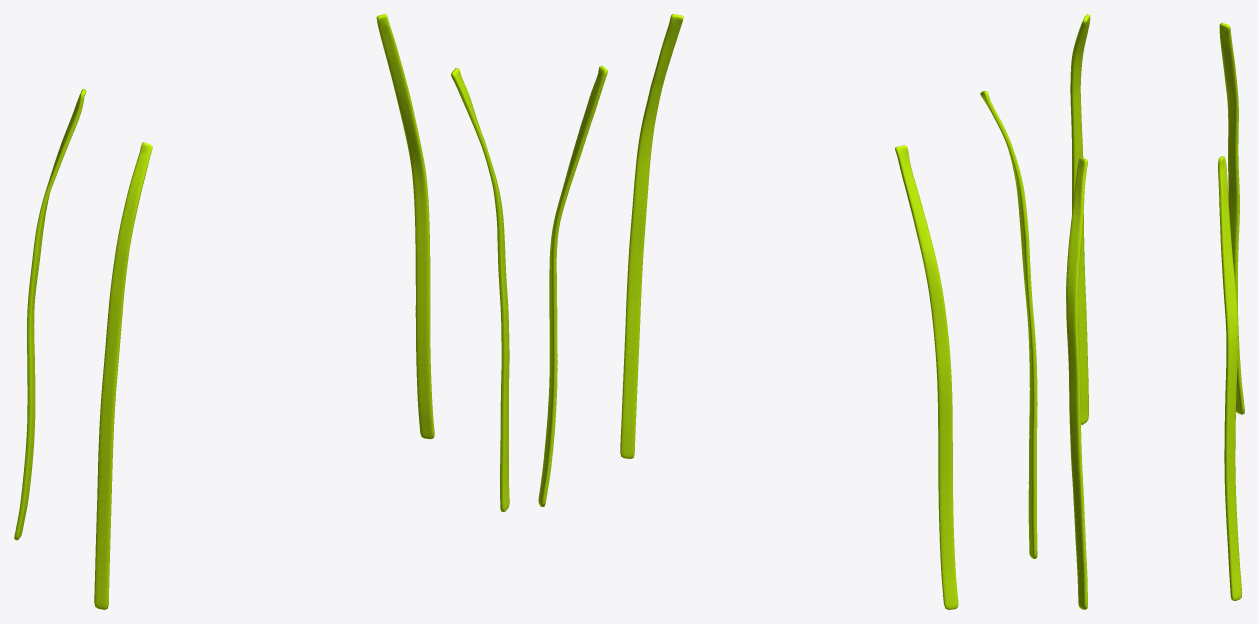
The model's file is stitching.glb.
3 views of the same model, side by side, from view 1: azimuth 30°, elevation 25°; view 2: azimuth 150°, elevation 25°; view 3: azimuth 270°, elevation 25° (orthographic). The views are drawn at different scales.
Visible parts, largest first — view 1: stitching; view 2: stitching; view 3: stitching.
Boxes of the visible parts, bbox=[...] form: stitching: bbox=[14, 14, 509, 609]; stitching: bbox=[538, 14, 1037, 609]; stitching: bbox=[1066, 14, 1244, 609].
Bounding box in the file's own units: 1.87 × 1.94 × 0.7321.
